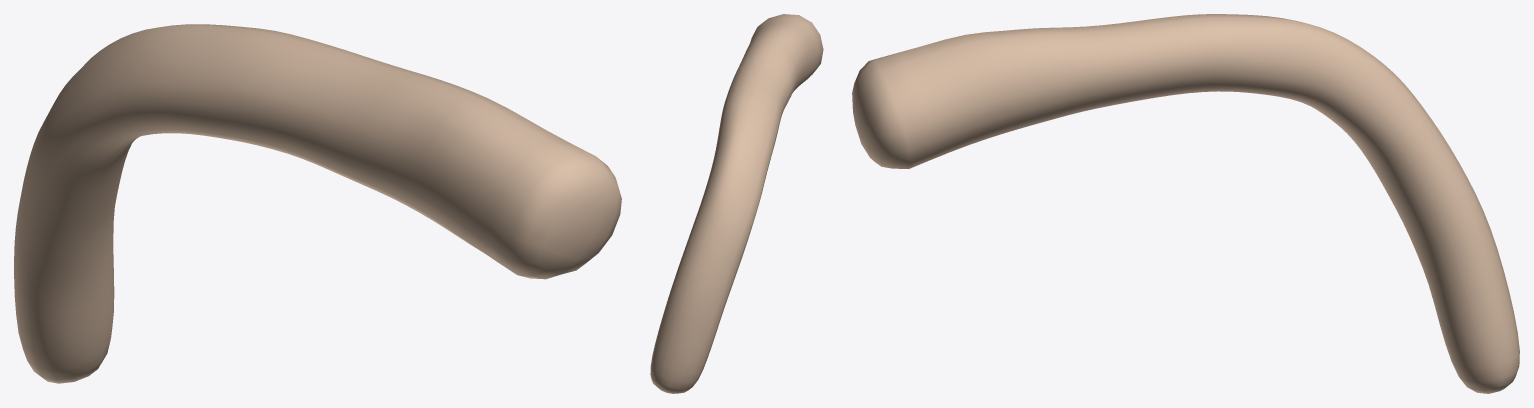
3 views of the same model, side by side, from view 1: azimuth 30°, elevation 25°; view 2: azimuth 150°, elevation 25°; view 3: azimuth 270°, elevation 25° (orthographic). The views are drawn at different scales.
Visible parts, largest first — view 1: 左侧踇长屈肌腱鞘; view 2: 左侧踇长屈肌腱鞘; view 3: 左侧踇长屈肌腱鞘.
Boxes of the visible parts, x1=… form: 左侧踇长屈肌腱鞘: x1=14, y1=24, x2=621, y2=383; 左侧踇长屈肌腱鞘: x1=650, y1=14, x2=823, y2=393; 左侧踇长屈肌腱鞘: x1=852, y1=14, x2=1519, y2=393.
Bounding box in the file's own units: 0.0299 × 0.0483 × 0.0744.
